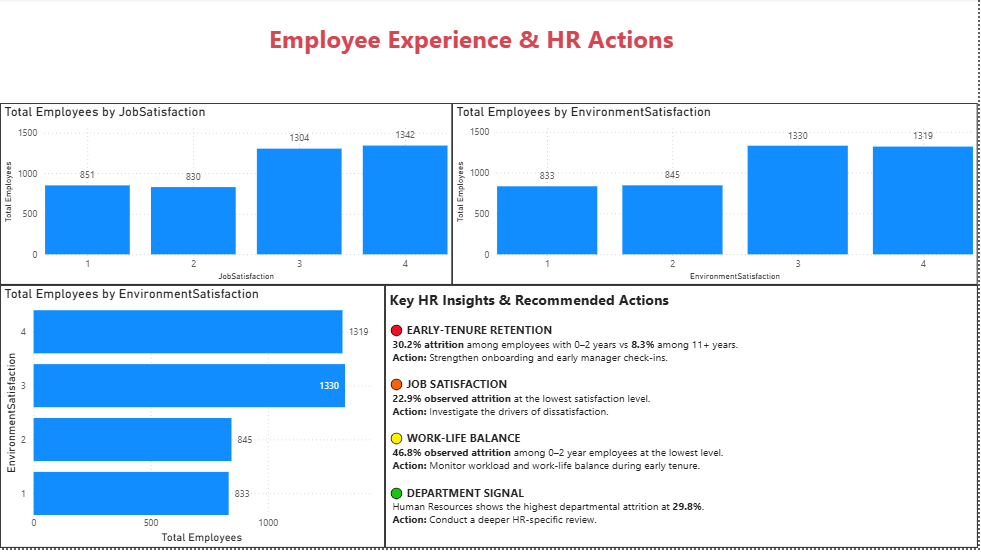

The page's visual inventory and layout, read from the dashboard file:
{"tool":"powerbi","page":{"name":"Page 3","canvas":[1280,720],"ordinal":2},"visuals":[{"type":"clusteredColumnChart","fields":{"Category":["HR_Analytics_Cleaned_Master.JobSatisfaction"],"Y":["HR_Analytics_Cleaned_Master.Total Employees"]},"box":[0,137.6,591.8,238.1],"z":0},{"type":"barChart","fields":{"Category":["HR_Analytics_Cleaned_Master.EnvironmentSatisfaction"],"Y":["HR_Analytics_Cleaned_Master.Total Employees"]},"box":[0,375.7,503.7,344.1],"z":1000},{"type":"clusteredColumnChart","fields":{"Category":["HR_Analytics_Cleaned_Master.EnvironmentSatisfaction"],"Y":["HR_Analytics_Cleaned_Master.Total Employees"]},"box":[591.8,137.6,688.2,238.1],"z":2000},{"type":"textbox","box":[503.7,375.7,776.3,344.1],"z":3000},{"type":"textbox","box":[100.5,24.8,1032.3,96.3],"z":4000}]}

Visuals, with their boxes in screenshot pixels (x1, y1, x2, y2), scaled from the page's 1280x720 canvas onto the 981x554 screenshot:
clusteredColumnChart - HR_Analytics_Cleaned_Master.JobSatisfaction x HR_Analytics_Cleaned_Master.Total Employees: l=0, t=106, r=454, b=289
barChart - HR_Analytics_Cleaned_Master.EnvironmentSatisfaction x HR_Analytics_Cleaned_Master.Total Employees: l=0, t=289, r=386, b=553
clusteredColumnChart - HR_Analytics_Cleaned_Master.EnvironmentSatisfaction x HR_Analytics_Cleaned_Master.Total Employees: l=454, t=106, r=980, b=289
textbox: l=386, t=289, r=980, b=553
textbox: l=77, t=19, r=868, b=93
